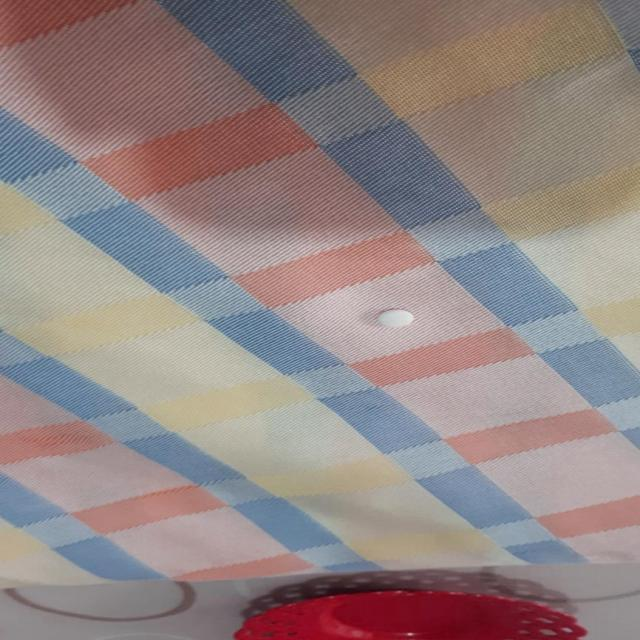pill: (367, 306, 422, 332)
